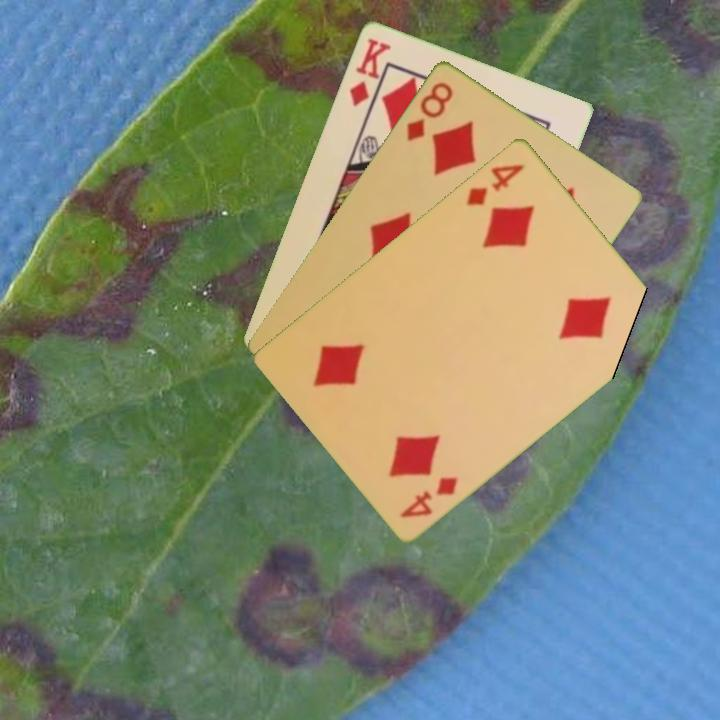4d: (396, 472, 461, 521), (463, 159, 527, 208)
8d: (402, 77, 456, 144)
Kd: (345, 34, 394, 109)
